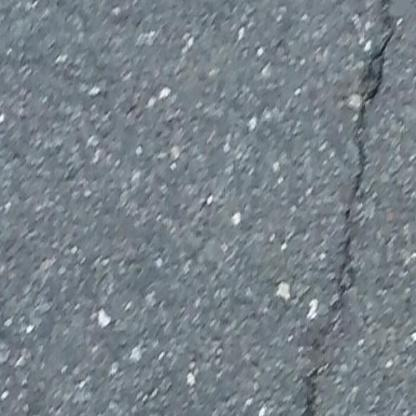Cracks: (337, 25, 399, 303), (292, 368, 324, 416)
